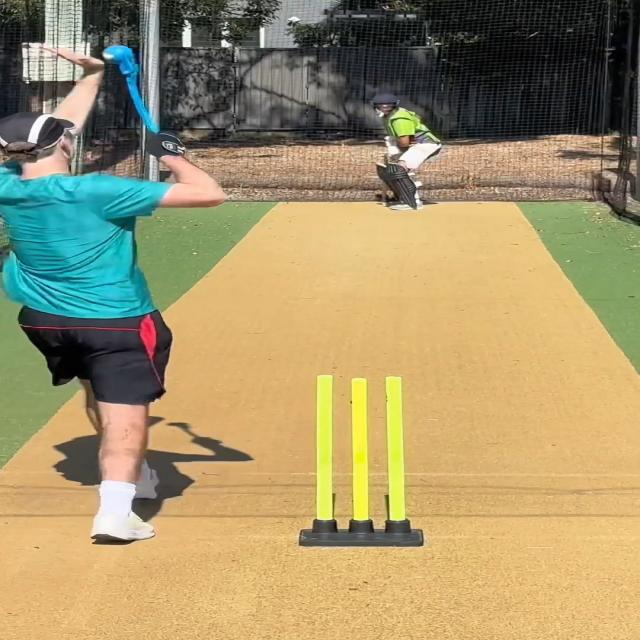stump: (298, 373, 425, 546)
